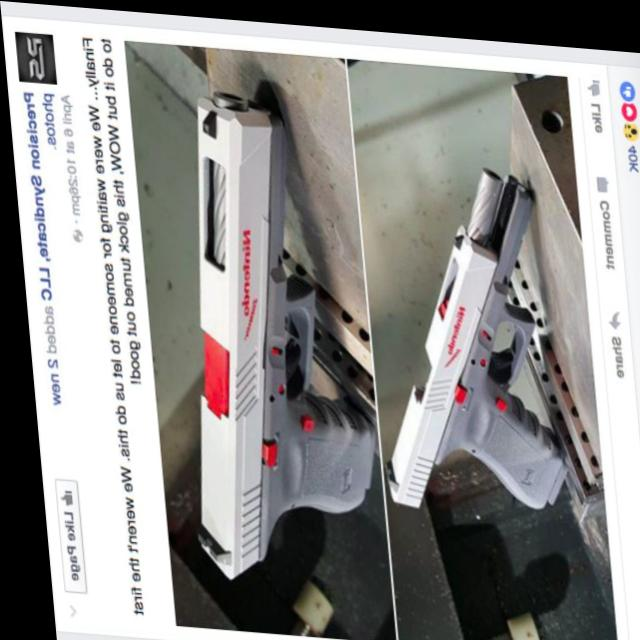handgun: (146, 72, 378, 599), (354, 148, 566, 511)
